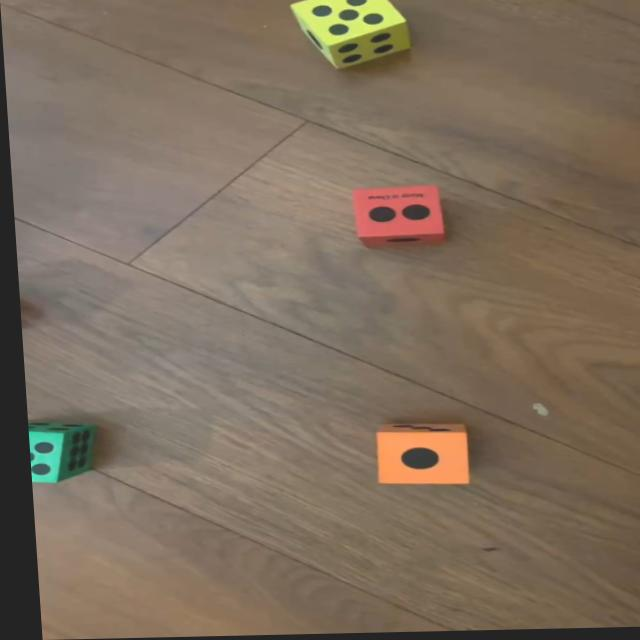red_block: (349, 188, 441, 250)
